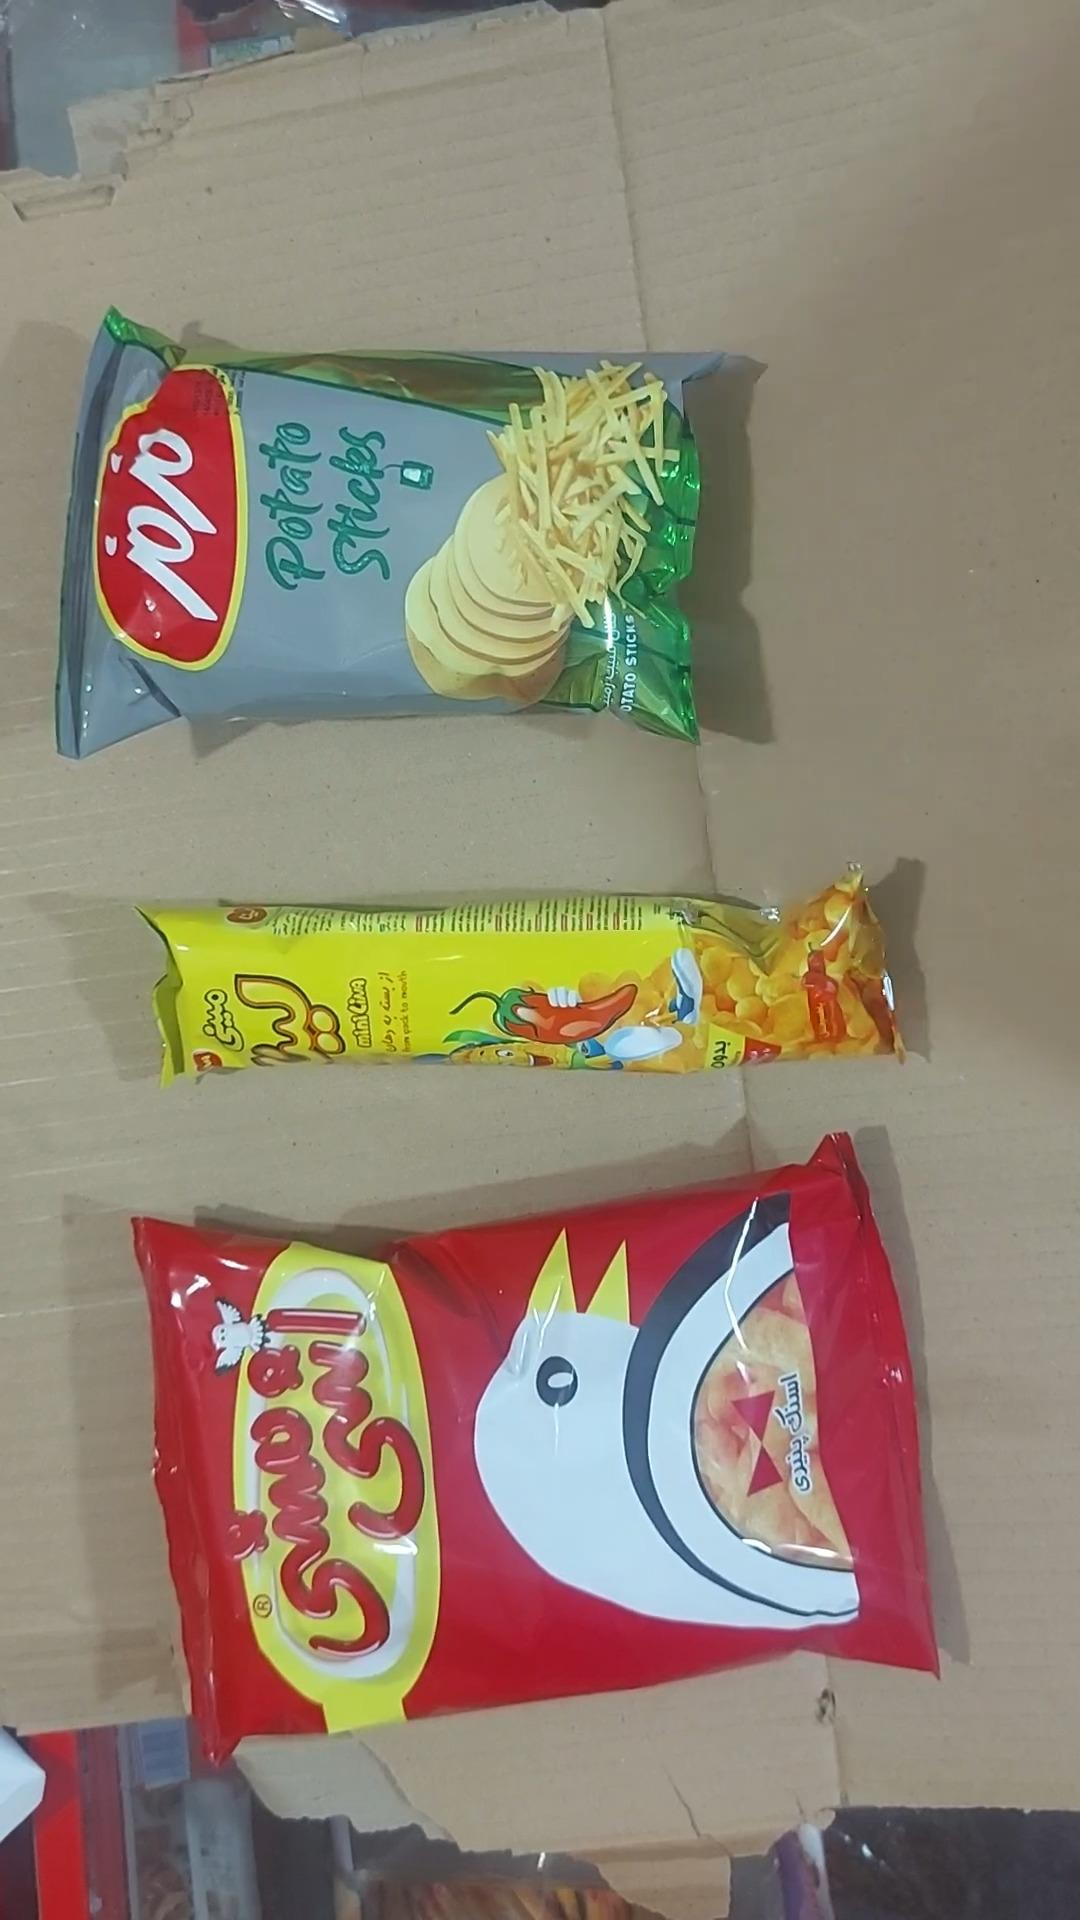Ashi Mashi snacks: (135, 1135, 938, 1758)
Maz Maz potato sticks: (55, 310, 725, 758)
Mini Lina: (140, 870, 903, 1083)
